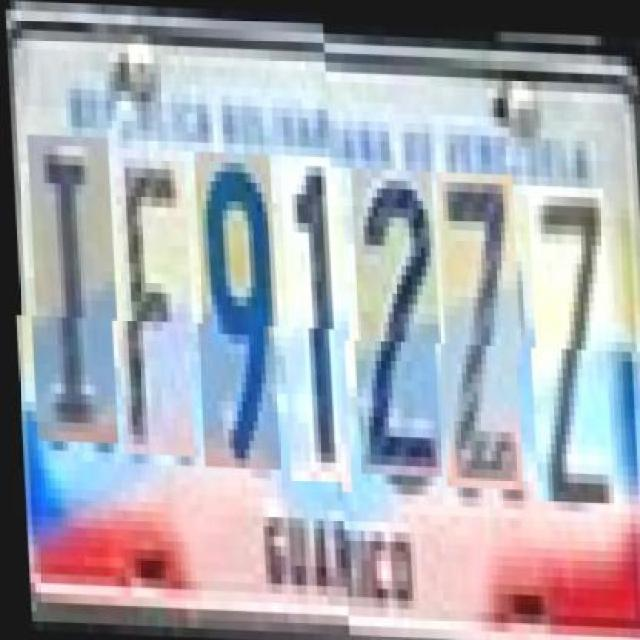1: (278, 162, 352, 489)
2: (348, 165, 442, 473)
9: (193, 159, 281, 478)
f: (112, 157, 196, 465)
i: (26, 144, 120, 451)
z: (526, 180, 614, 498), (435, 168, 522, 486)
